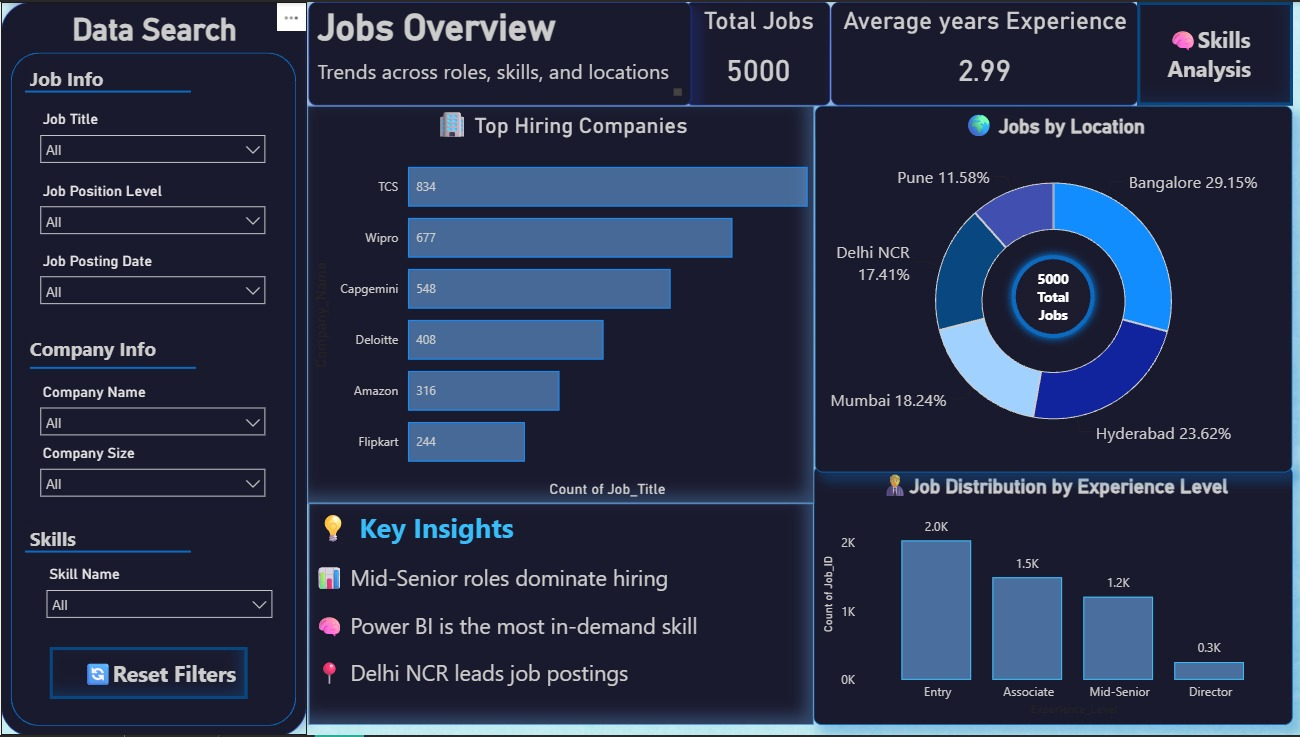

Layout of this report page (visuals, bound fields, positions):
{"tool":"powerbi","page":{"name":"Page 1","canvas":[1280,720],"ordinal":0},"visuals":[{"type":"shape","title":"Data Search","box":[0,0,300.1,720.6],"z":0},{"type":"card","title":"Total Jobs","fields":{"Values":["Sum(kpi_posting_count.Posting_Count)"]},"box":[672.9,0,141.4,101.4],"z":6000},{"type":"card","title":"Average years Experience","fields":{"Values":["Sum(kpi_avg_experience.Avg_Experience)"]},"box":[814.3,0,301.4,101.4],"z":7000},{"type":"textbox","title":"Jobs Overview","box":[301.4,0,375.7,101.4],"z":8000},{"type":"slicer","fields":{"Values":["job_market fact_jobs.Job_Title"]},"box":[28.8,101.5,241.5,70],"z":9000},{"type":"slicer","fields":{"Values":["experience_distribution.Experience_Level"]},"box":[28.8,171.5,241.5,68.6],"z":10000},{"type":"slicer","fields":{"Values":["job_market dim_company.Company_Name"]},"box":[28.8,369.1,241.5,60.4],"z":11000},{"type":"slicer","fields":{"Values":["job_market dim_company.Company_Size"]},"box":[28.8,429.5,241.5,70],"z":12000},{"type":"slicer","fields":{"Values":["job_market dim_skills.Skill_Name"]},"box":[34,548.1,241.7,68.1],"z":13000},{"type":"slicer","fields":{"Values":["job_market fact_jobs.Year Hierarchy.Year","job_market fact_jobs.Year Hierarchy.Month"]},"box":[28.8,240.1,241.5,70],"z":14000},{"type":"columnChart","title":"🧑💼Job Distribution by Experience Level","fields":{"Category":["job_market_realistic_5000.Experience_Level"],"Y":["CountNonNull(job_market_realistic_5000.Job_ID)"]},"box":[797.6,455.6,470.5,254.2],"z":15000},{"type":"donutChart","title":"🌍 Jobs by Location","fields":{"Category":["job_market_realistic_5000.City"],"Y":["CountNonNull(job_market_realistic_5000.Job_ID)"]},"box":[799,101.4,469.1,359.6],"z":16000},{"type":"textbox","box":[23.3,57.6,241.5,35.7],"z":17000},{"type":"shape","box":[23.3,68.6,163.3,38.4],"z":18000},{"type":"textbox","box":[23.3,322.5,251.1,37],"z":19000},{"type":"shape","box":[28.8,340.3,163.3,38.4],"z":20000},{"type":"textbox","box":[23.3,509.1,247,39.8],"z":21000},{"type":"shape","box":[23.3,520.1,163.3,38.4],"z":22000},{"type":"actionButton","box":[47.7,633.2,194,51.1],"z":23000},{"type":"textbox","box":[301.5,492.1,496.2,217.7],"z":24000},{"type":"clusteredBarChart","title":"🏢 Top Hiring Companies","fields":{"Category":["job_market_realistic_5000.Company_Name"],"Y":["CountNonNull(job_market_realistic_5000.Job_Title)"]},"box":[300.1,101.4,497.5,390.7],"z":25000},{"type":"actionButton","box":[1115.7,0,152.9,101.4],"z":26000},{"type":"shape","box":[984.2,240.6,97.3,97.3],"z":27000}]}

Visuals, with their boxes in screenshot pixels (x1, y1, x2, y2), scaled from the page's 1280x720 canvas onto the 1300x737 screenshot:
"Data Search" shape: [0, 0, 305, 736]
"Total Jobs" card: [683, 0, 827, 104]
"Average years Experience" card: [827, 0, 1133, 104]
"Jobs Overview" textbox: [306, 0, 688, 104]
slicer - job_market fact_jobs.Job_Title: [29, 104, 275, 176]
slicer - experience_distribution.Experience_Level: [29, 176, 275, 246]
slicer - job_market dim_company.Company_Name: [29, 378, 275, 440]
slicer - job_market dim_company.Company_Size: [29, 440, 275, 511]
slicer - job_market dim_skills.Skill_Name: [35, 561, 280, 631]
slicer - job_market fact_jobs.Year Hierarchy.Year x job_market fact_jobs.Year Hierarchy.Month: [29, 246, 275, 317]
"🧑💼Job Distribution by Experience Level" columnChart: [810, 466, 1288, 727]
"🌍 Jobs by Location" donutChart: [811, 104, 1288, 472]
textbox: [24, 59, 269, 96]
shape: [24, 70, 190, 110]
textbox: [24, 330, 279, 368]
shape: [29, 348, 195, 388]
textbox: [24, 521, 275, 562]
shape: [24, 532, 190, 572]
actionButton: [48, 648, 245, 700]
textbox: [306, 504, 810, 727]
"🏢 Top Hiring Companies" clusteredBarChart: [305, 104, 810, 504]
actionButton: [1133, 0, 1288, 104]
shape: [1000, 246, 1098, 346]
